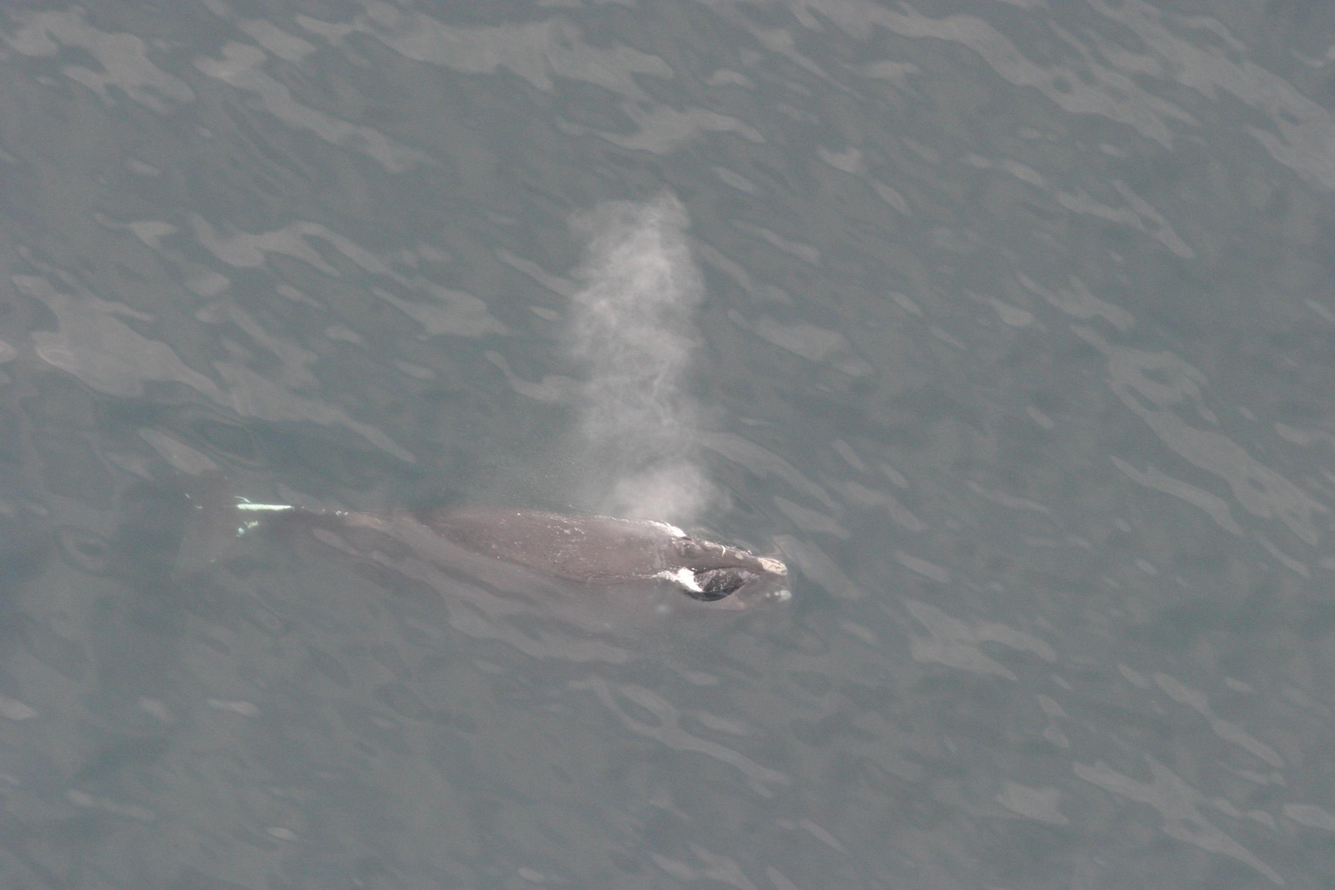whale: (157, 433, 808, 634)
